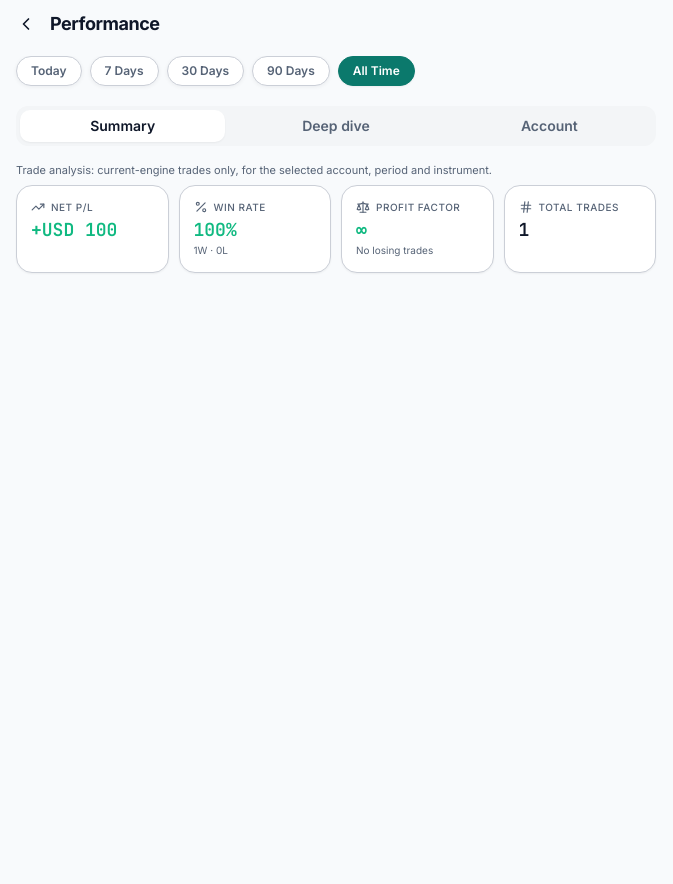
Test: JournalStats — Phase 7 breakdowns & safety › excludes legacy pre-snapshot trades from performance stats and shows no version label
This screenshot has width=673, height=884.
expect the text "+USD 100" is shown: met, box [31, 218, 117, 240]
Click the button "Account".
click(549, 126)  # box [447, 110, 652, 142]
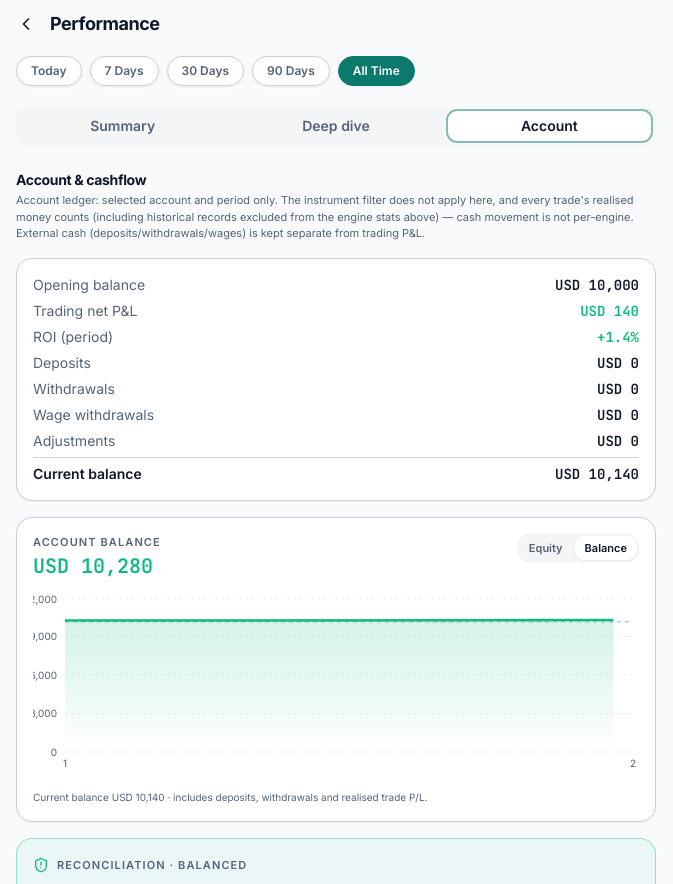
expect the text "Trading net P&L" reads "Trading net P&L USD 140": met, box [580, 302, 639, 320]
